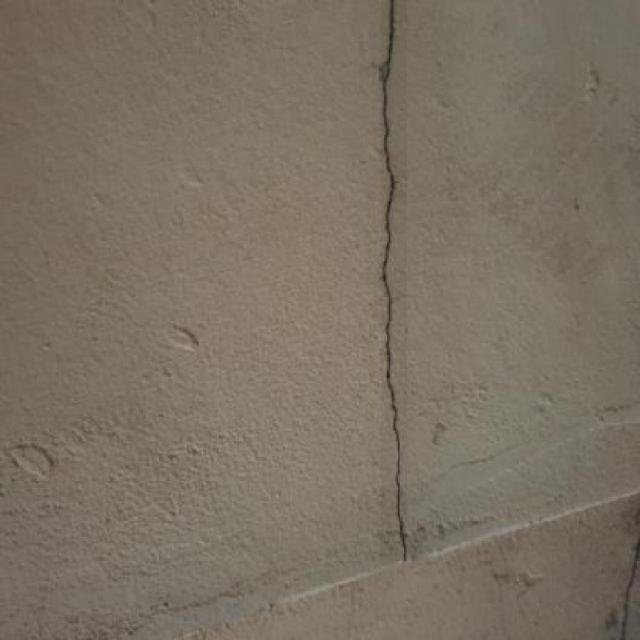vertical crack: (381, 1, 406, 561)
